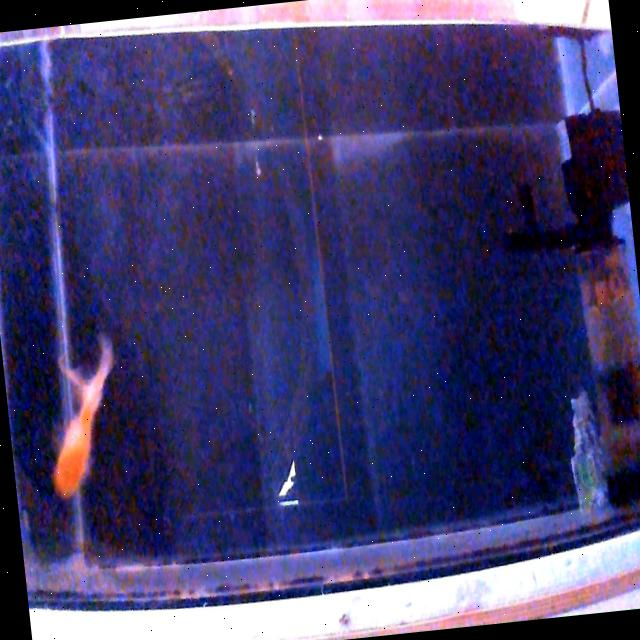fish: (36, 330, 128, 498)
